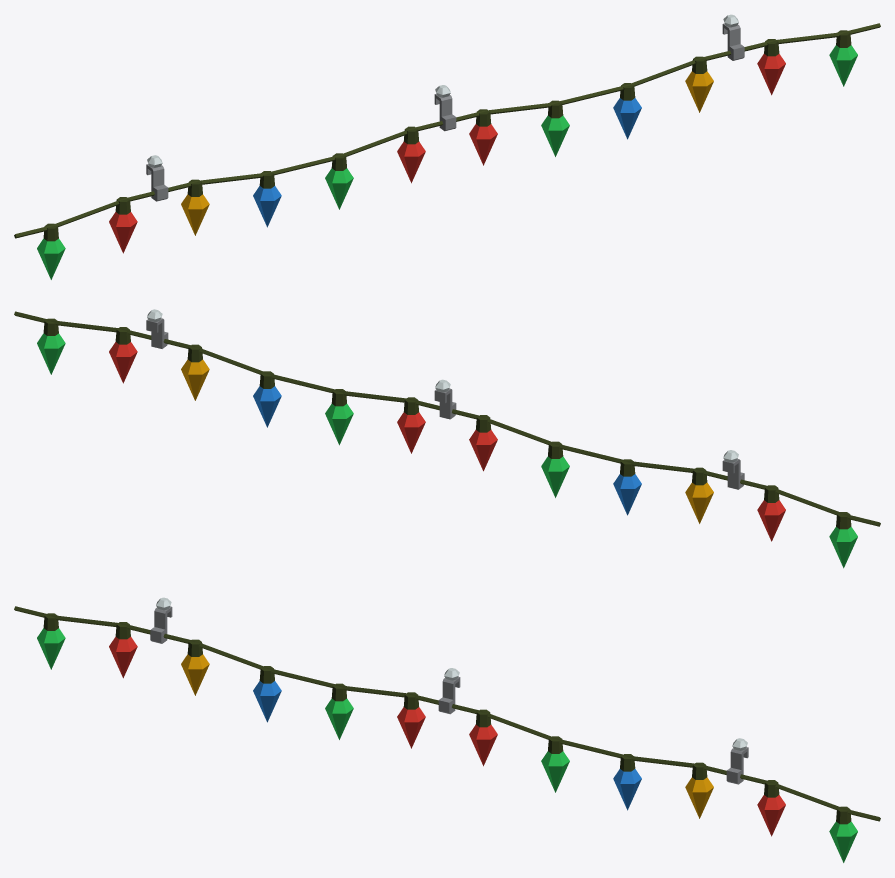
Rendered from roofline-string-light-run-fa1160.glb.
3 views of the same model, one above another, from view 1: azimuth 30°, elevation 25°; view 2: azimuth 150°, elevation 25°; view 3: azimuth 330°, elevation 25° (orthographic).
Visible parts, largest first — view 1: string-light-run; view 2: string-light-run; view 3: string-light-run.
Part boxes in pixels (x1=…): string-light-run: x1=14, y1=14, x2=880, y2=279; string-light-run: x1=14, y1=309, x2=880, y2=568; string-light-run: x1=14, y1=597, x2=880, y2=862.
Bounding box in the file's own units: 4 × 0.4158 × 0.1244.
